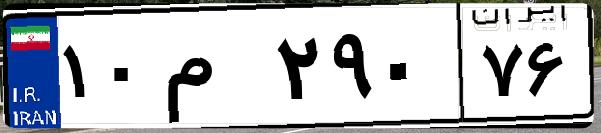0: (385, 28, 445, 110), (110, 28, 158, 98)
1: (57, 26, 110, 100)
2: (270, 28, 330, 110)
6: (525, 38, 570, 115)
7: (475, 38, 525, 113)
9: (330, 28, 385, 110)
م: (158, 20, 270, 120)
